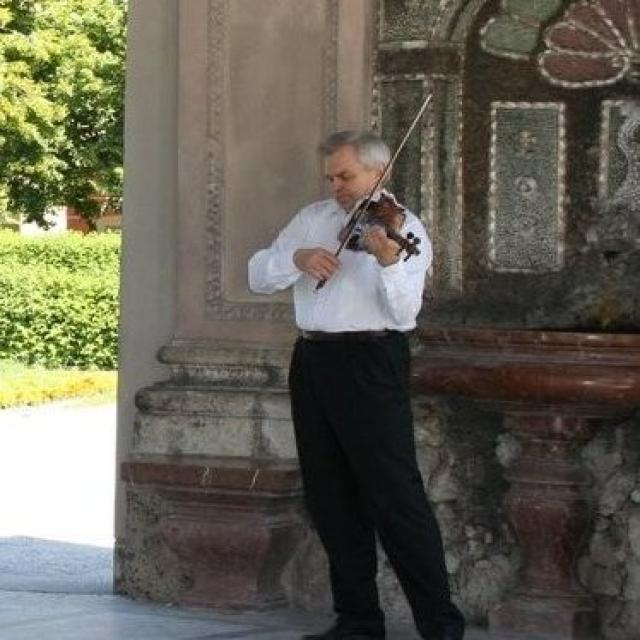violin: (333, 197, 424, 262)
